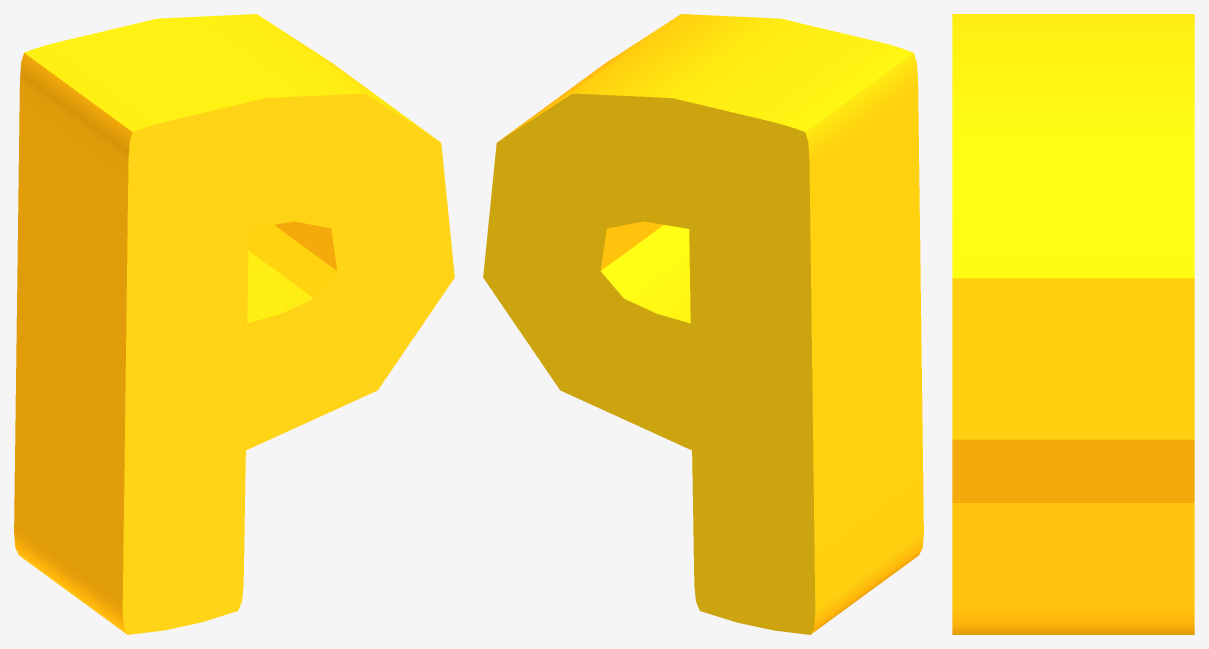
3 views of the same model, side by side, from view 1: azimuth 30°, elevation 25°; view 2: azimuth 150°, elevation 25°; view 3: azimuth 270°, elevation 25° (orthographic). The views are drawn at different scales.
Visible parts, largest first — view 1: p_Zyzol_Yellow; view 2: p_Zyzol_Yellow; view 3: p_Zyzol_Yellow.
Boxes of the visible parts, x1,y1,x2,y2 form: p_Zyzol_Yellow: (14,14,454,634); p_Zyzol_Yellow: (483,14,923,634); p_Zyzol_Yellow: (952,14,1194,634).
Size of what is drawn, in the model's own units: 0.0795 by 0.1164 by 0.045.
Materials: 2 (2 with a texture image).
